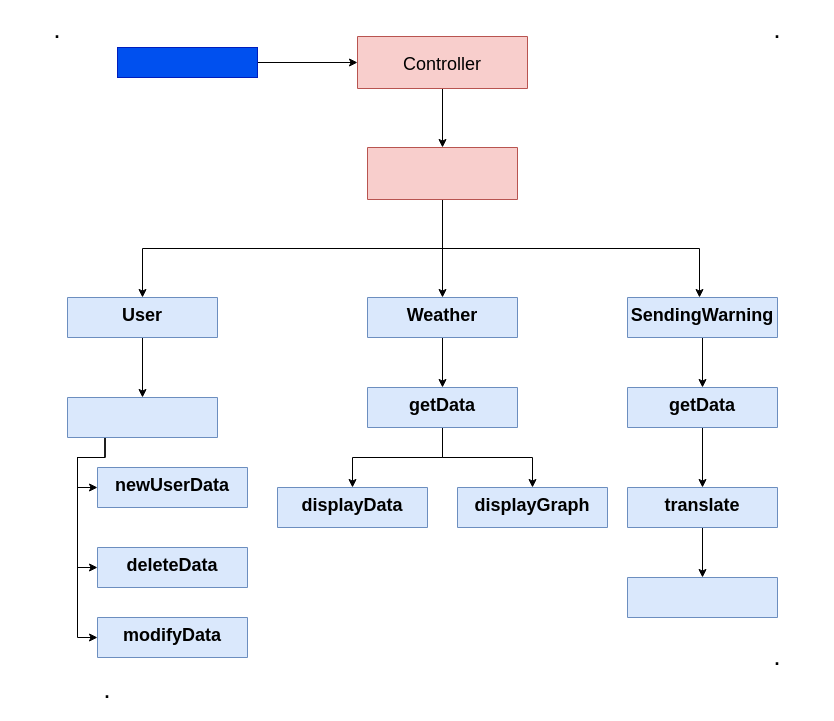
This 834x721 diagram has some shape labels left out. Each missing label, with the centre of its shape:
Admin: [442,173]
Main: [187,62]
sendMail: [702,597]
UserData: [142,417]
